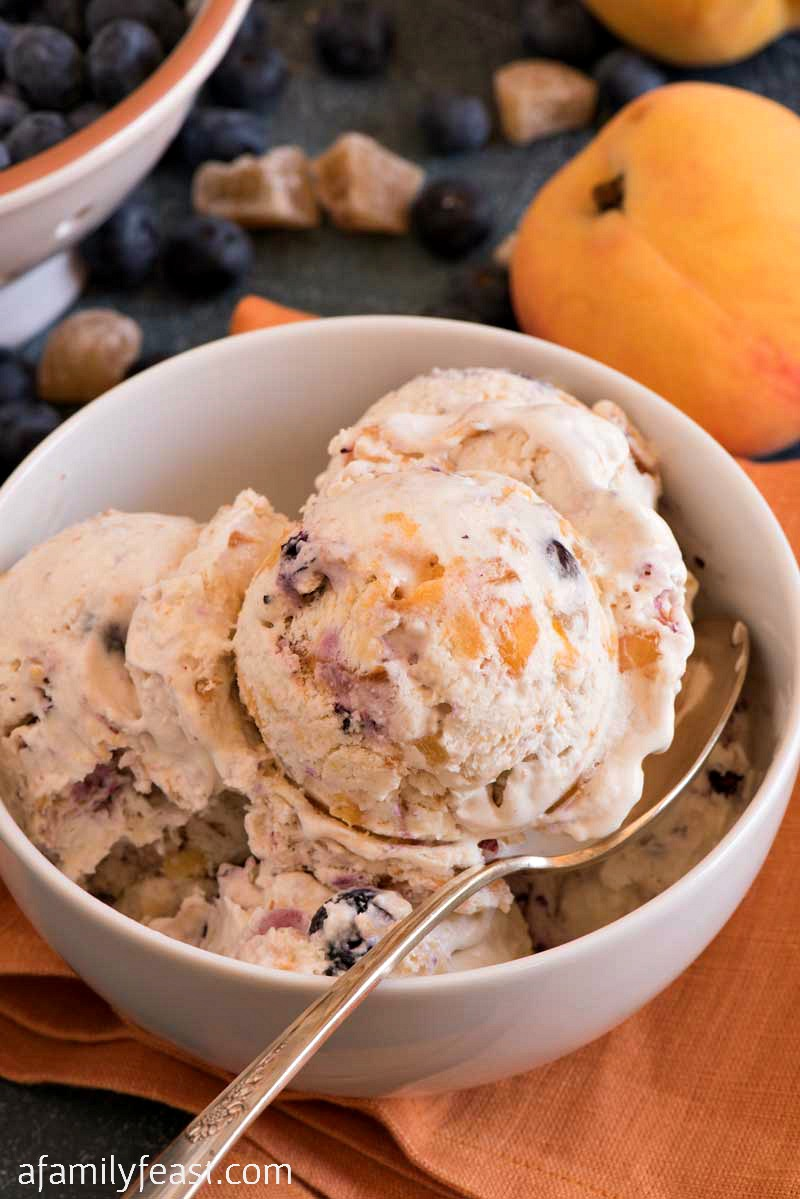ice-cream: (246, 375, 682, 841), (1, 503, 292, 876)
